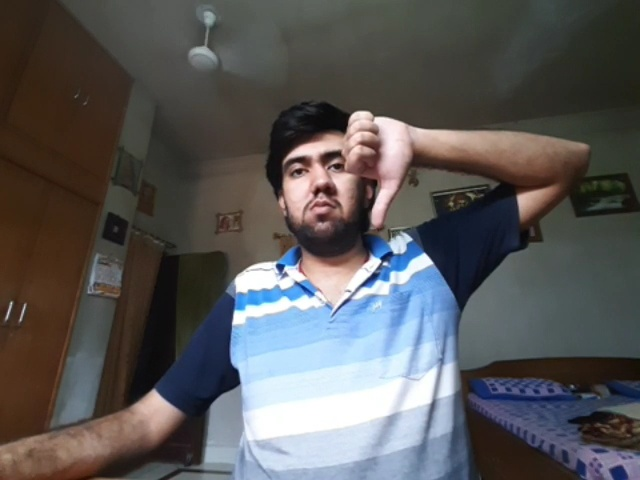NotOk: (342, 110, 412, 228)
